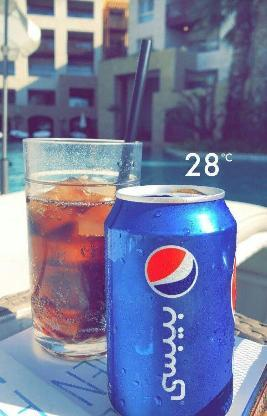Can: (104, 184, 239, 416)
